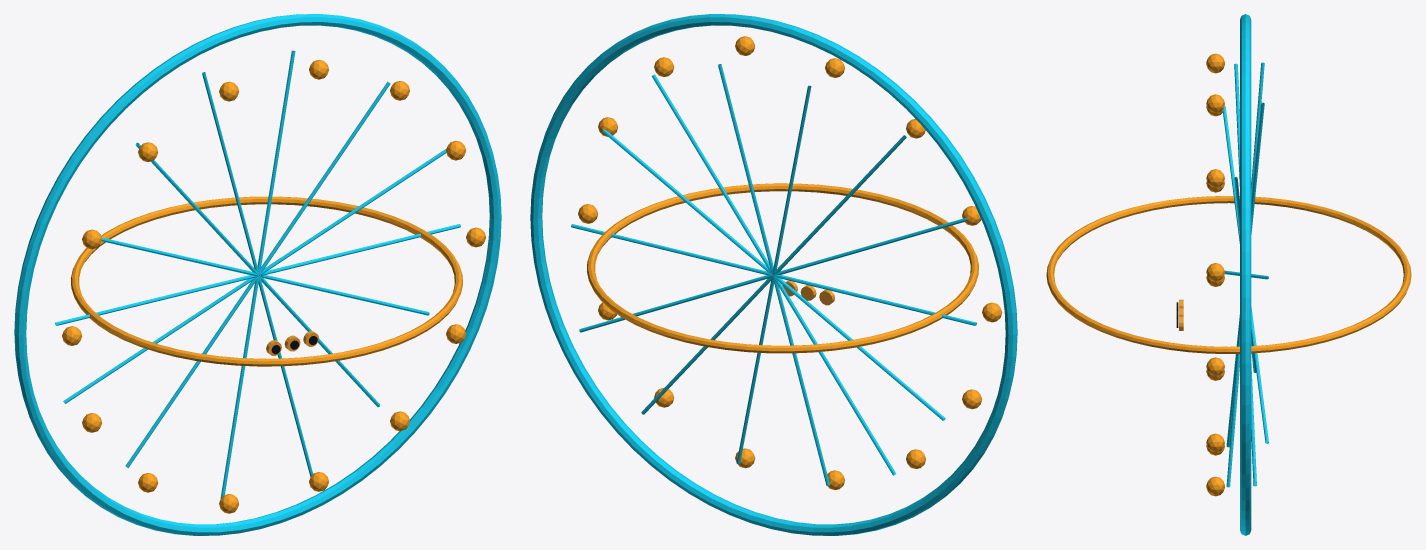
File: 36_L89_RadiationHeatmapHologram.fbx
3 renders of one model, left to right at view 1: azimuth 30°, elevation 25°; view 2: azimuth 150°, elevation 25°; view 3: azimuth 270°, elevation 25°, orthographic. The views are drawn at different scales.
Parts seen in each view (by area): view 1: L87_RadiationHeatmapHologram_Part_0000, L87_RadiationHeatmapHologram_Part_0001; view 2: L87_RadiationHeatmapHologram_Part_0000, L87_RadiationHeatmapHologram_Part_0001; view 3: L87_RadiationHeatmapHologram_Part_0000, L87_RadiationHeatmapHologram_Part_0001.
Boxes of the visible parts, left/top/right/bottom form: L87_RadiationHeatmapHologram_Part_0000: left=14, top=14, right=501, bottom=535; L87_RadiationHeatmapHologram_Part_0001: left=62, top=60, right=486, bottom=513; L87_RadiationHeatmapHologram_Part_0000: left=530, top=14, right=1017, bottom=535; L87_RadiationHeatmapHologram_Part_0001: left=578, top=36, right=1002, bottom=489; L87_RadiationHeatmapHologram_Part_0000: left=1223, top=14, right=1268, bottom=535; L87_RadiationHeatmapHologram_Part_0001: left=1046, top=53, right=1411, bottom=496.
Bounding box in the file's own units: 470 × 470 × 329.
